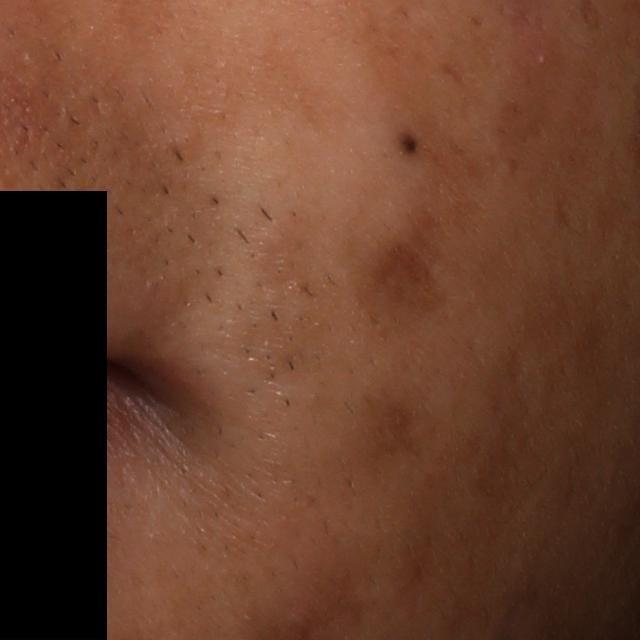nevus: (397, 127, 423, 155)
